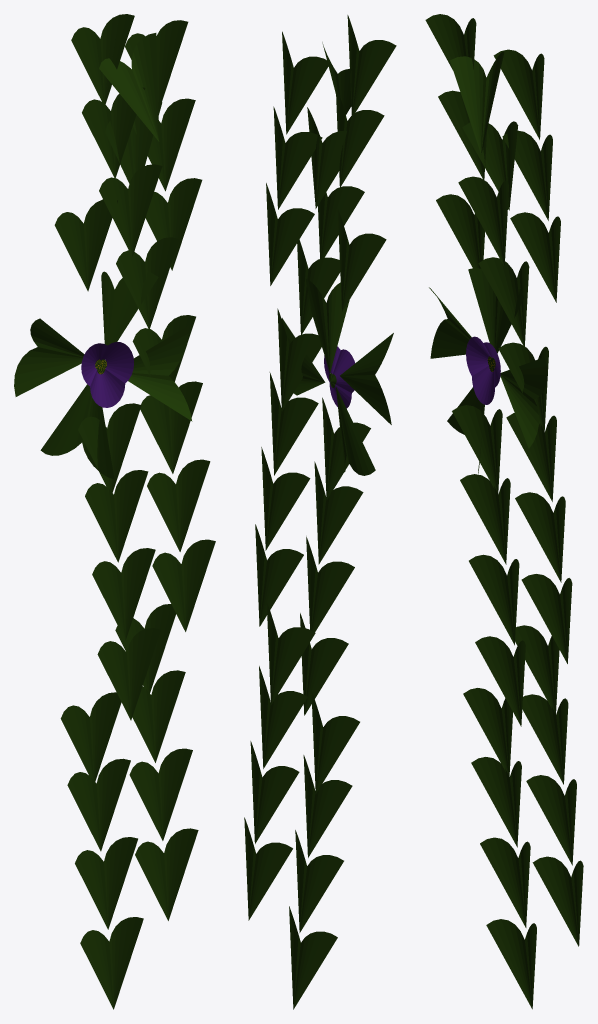
Rendered from Vegetation_Vine_Creeper_02.fbx.
3 views of the same model, side by side, from view 1: azimuth 30°, elevation 25°; view 2: azimuth 150°, elevation 25°; view 3: azimuth 330°, elevation 25° (orthographic). The views are drawn at different scales.
Visible parts, largest first — view 1: Vegetation_Vine_Creeper_02; view 2: Vegetation_Vine_Creeper_02; view 3: Vegetation_Vine_Creeper_02.
Part boxes in pixels (box(x1,y1,x2,y2)): Vegetation_Vine_Creeper_02: box(14, 14, 215, 1009); Vegetation_Vine_Creeper_02: box(244, 15, 396, 1009); Vegetation_Vine_Creeper_02: box(425, 14, 583, 1009).
Bounding box in the file's own units: 387 × 2202 × 190.
